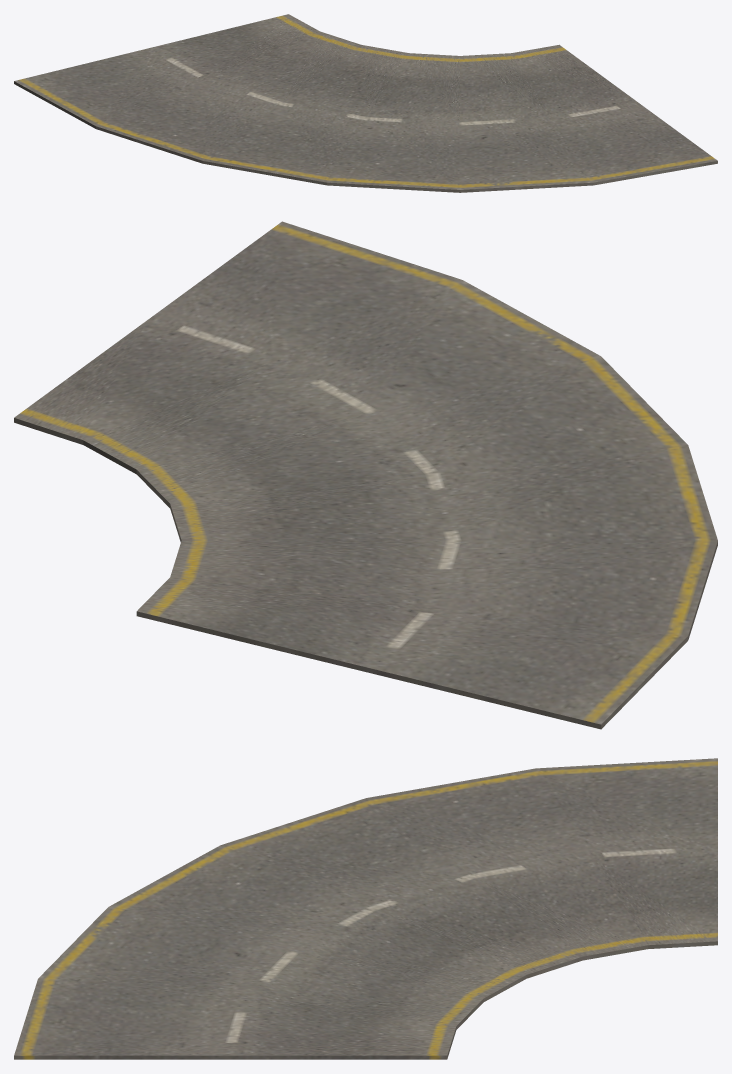
File: Urban_Road1LongCornerNoSides_Model.fbx
3 views of the same model, one above another, from view 1: azimuth 30°, elevation 25°; view 2: azimuth 150°, elevation 25°; view 3: azimuth 270°, elevation 25° (orthographic). The views are drawn at different scales.
Visible parts, largest first — view 1: Urban_Road1LongCornerNoSides_Mesh; view 2: Urban_Road1LongCornerNoSides_Mesh; view 3: Urban_Road1LongCornerNoSides_Mesh.
Boxes of the visible parts, x1,y1,x2,y2 form: Urban_Road1LongCornerNoSides_Mesh: [14, 14, 717, 192]; Urban_Road1LongCornerNoSides_Mesh: [14, 221, 717, 729]; Urban_Road1LongCornerNoSides_Mesh: [14, 758, 717, 1059].
Size of the model in its own units: 26 by 0.16 by 26.
